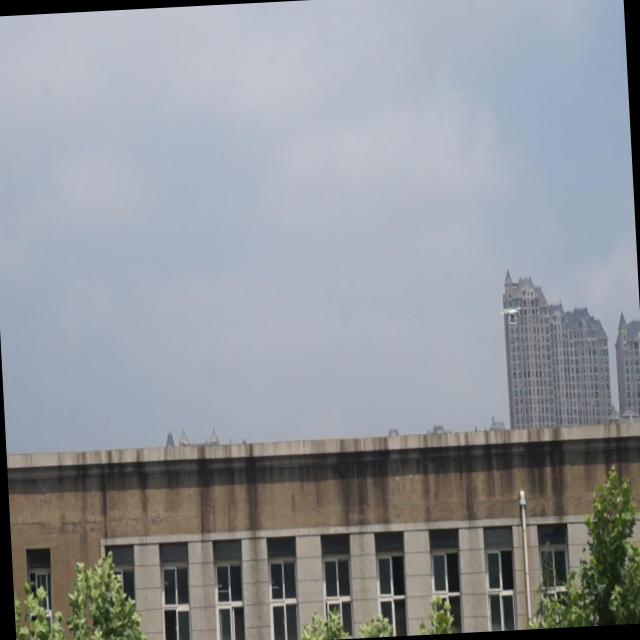drone: (497, 300, 528, 328)
